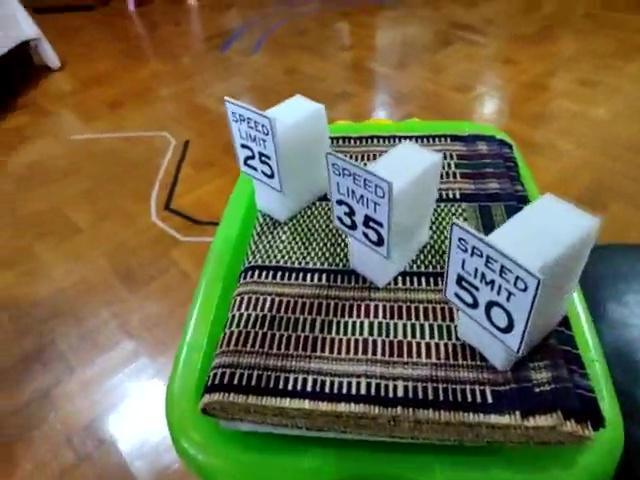Speed Limit 25: (223, 95, 284, 196)
Speed Limit 35: (325, 147, 395, 260)
Speed Limit 50: (440, 222, 544, 357)
